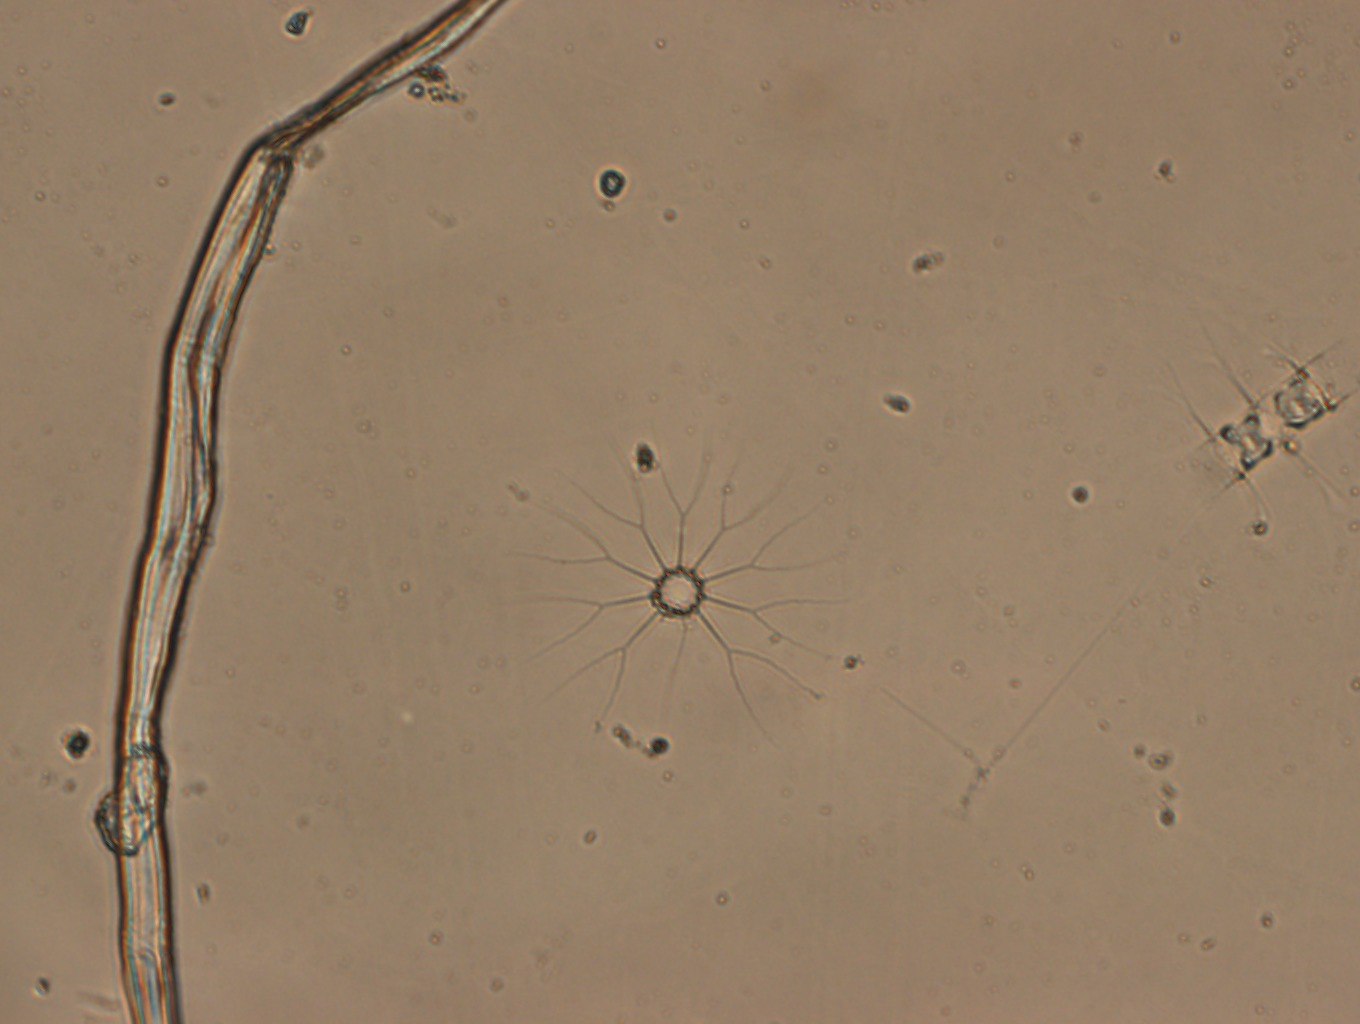bacteriastrum: (510, 433, 846, 743)
chaetoceros: (1164, 314, 1360, 518)
